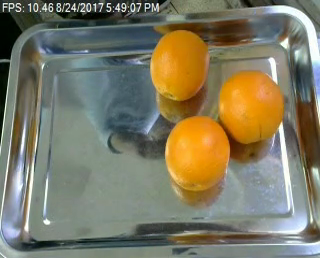Orange: (162, 114, 229, 191), (218, 70, 284, 145), (150, 28, 211, 101)
